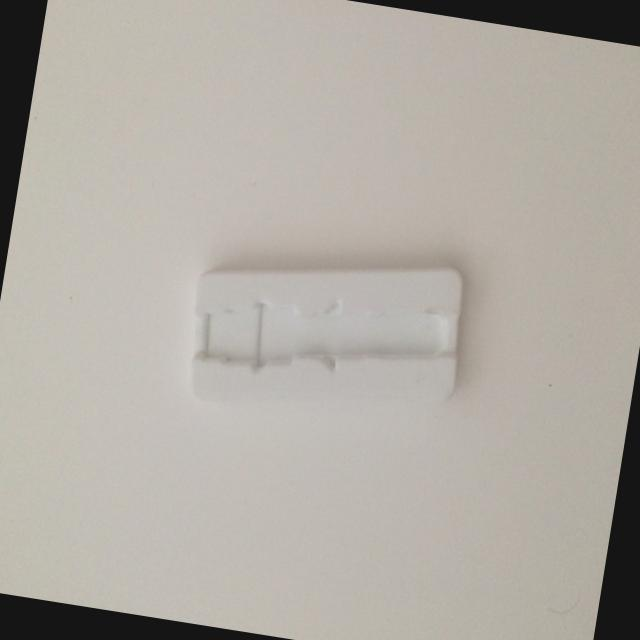Plastic: (138, 182, 503, 492)
